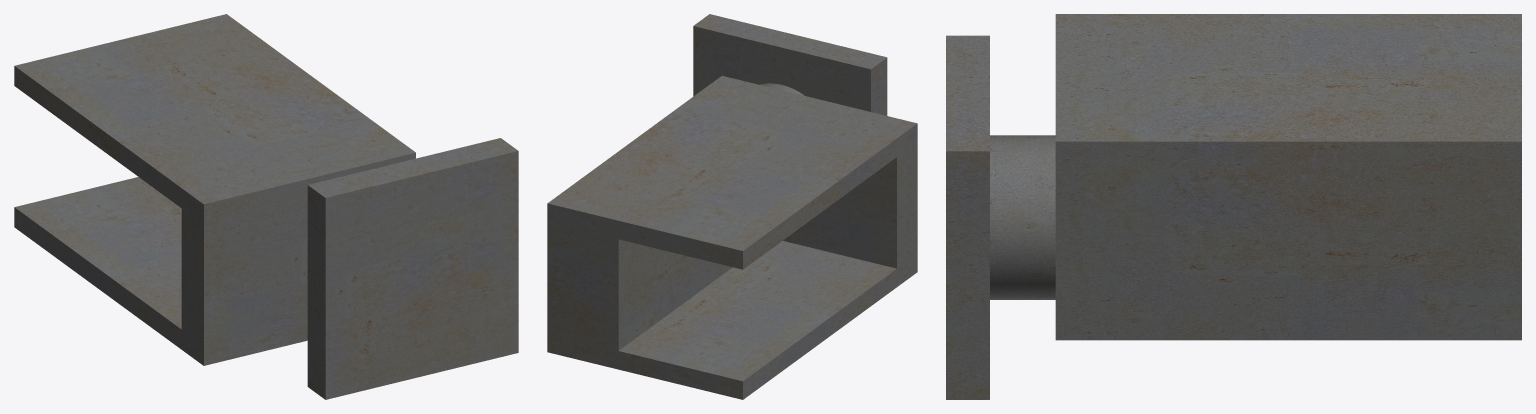
File: caster_swivel_3.glb
3 renders of one model, left to right at view 1: azimuth 30°, elevation 25°; view 2: azimuth 150°, elevation 25°; view 3: azimuth 270°, elevation 25°, orthographic. The views are drawn at different scales.
Visible parts, largest first — view 1: world; view 2: world; view 3: world.
Boxes of the visible parts, bbox=[...] form: world: bbox=[14, 14, 518, 399]; world: bbox=[547, 14, 917, 399]; world: bbox=[946, 14, 1521, 399].
Bounding box in the file's own units: 70 × 50 × 105.
1 material, 1 textured.
